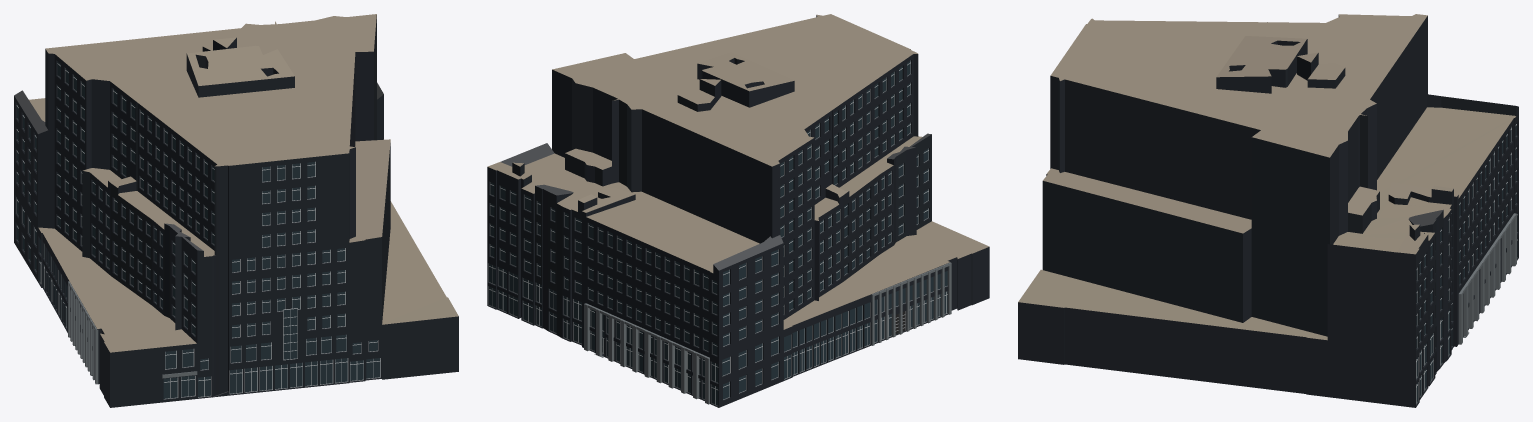
The model's file is recipe-large-veemkade-366-556-145730.glb.
The picture shows the model from 3 angles, left to right: view 1: azimuth 30°, elevation 25°; view 2: azimuth 150°, elevation 25°; view 3: azimuth 270°, elevation 25°; orthographic projection. The views are drawn at different scales.
Parts seen in each view (by area): view 1: veemkade-366-556-145730; view 2: veemkade-366-556-145730; view 3: veemkade-366-556-145730.
Part boxes in pixels (x1=…): veemkade-366-556-145730: x1=14, y1=14, x2=458, y2=407; veemkade-366-556-145730: x1=487, y1=14, x2=989, y2=407; veemkade-366-556-145730: x1=1018, y1=14, x2=1518, y2=407.
Bounding box in the file's own units: 60.11 × 36.23 × 64.04.
